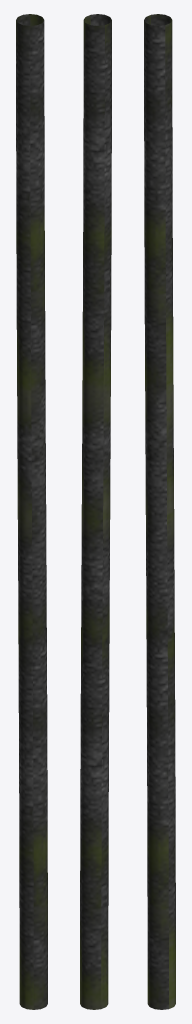
The model's file is pipe_3.glb.
3 views of the same model, side by side, from view 1: azimuth 30°, elevation 25°; view 2: azimuth 150°, elevation 25°; view 3: azimuth 330°, elevation 25° (orthographic).
Parts seen in each view (by area): view 1: Pipe3; view 2: Pipe3; view 3: Pipe3.
Part boxes in pixels (left/top/right/bottom): Pipe3: left=16, top=14, right=47, bottom=1009; Pipe3: left=80, top=14, right=111, bottom=1009; Pipe3: left=144, top=14, right=175, bottom=1009.
Bounding box in the file's own units: 0.0918 × 3.06 × 0.08.
1 material, 1 textured.
